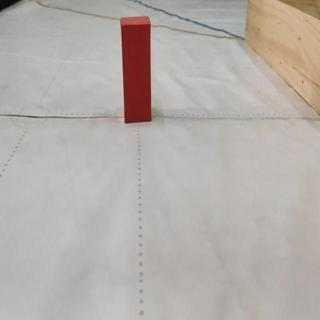redbox: (119, 15, 152, 123)
